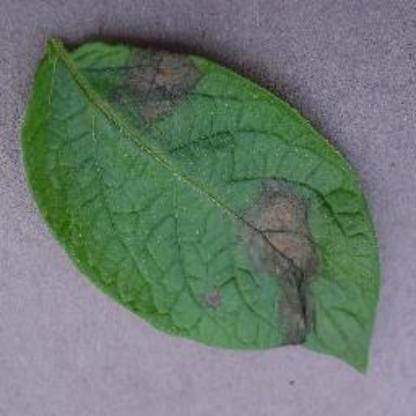Late-Blight: (21, 28, 381, 374)
